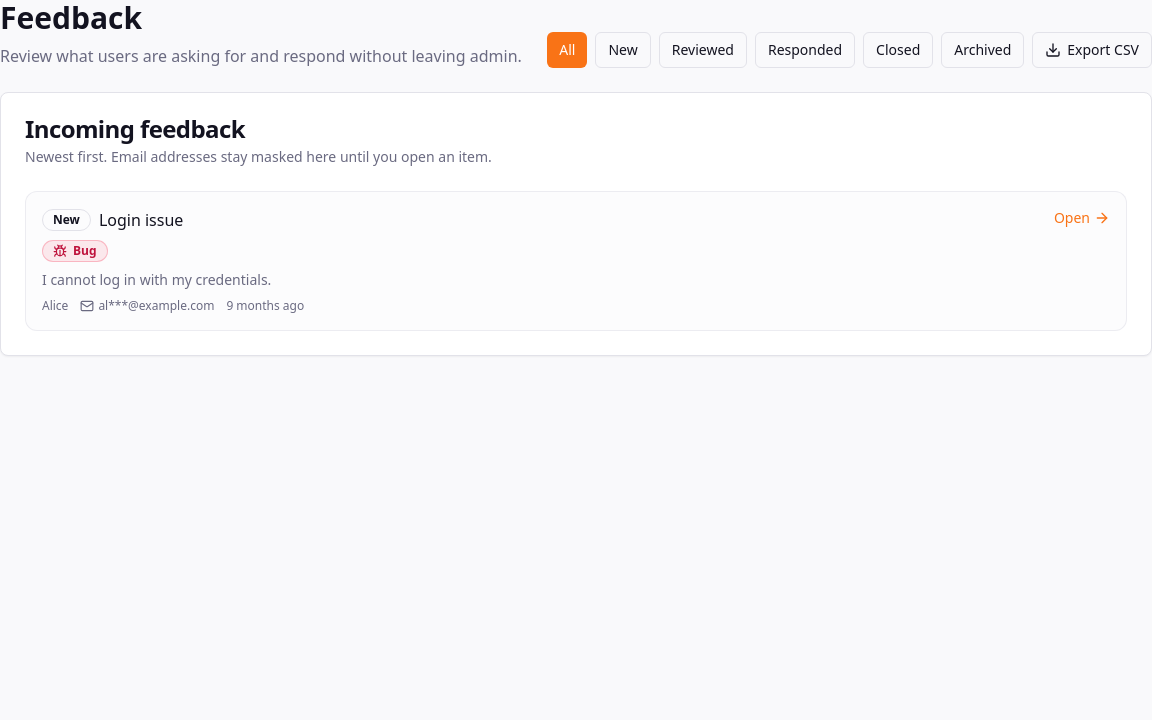
it: AdminFeedbackPage › shows delete button for closed feedback
The image size is (1152, 720).
Click the button named "open" at coordinates (576, 261), box [25, 191, 1127, 331]
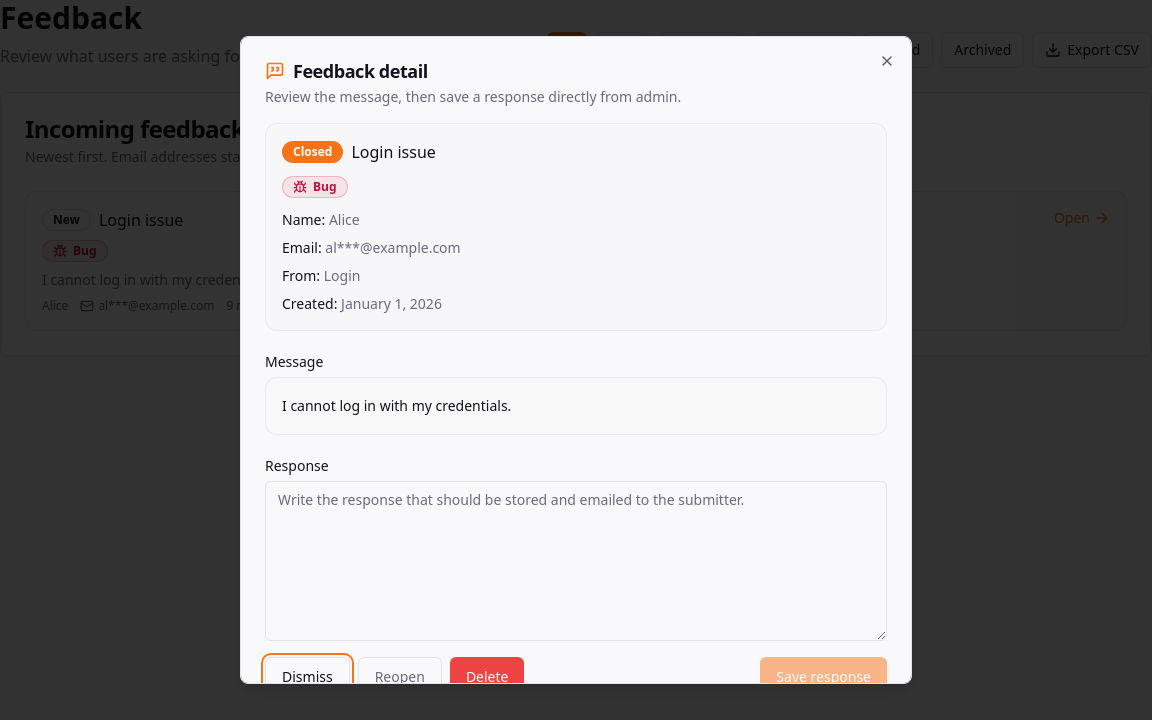
Check: the button "Delete" is shown, box [450, 657, 524, 684]
